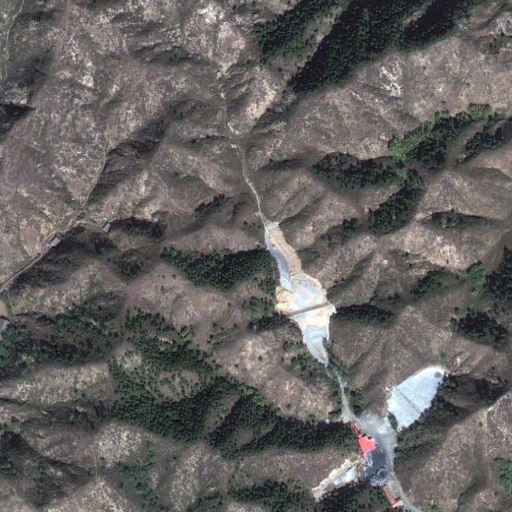tp: (264, 222, 334, 364)
